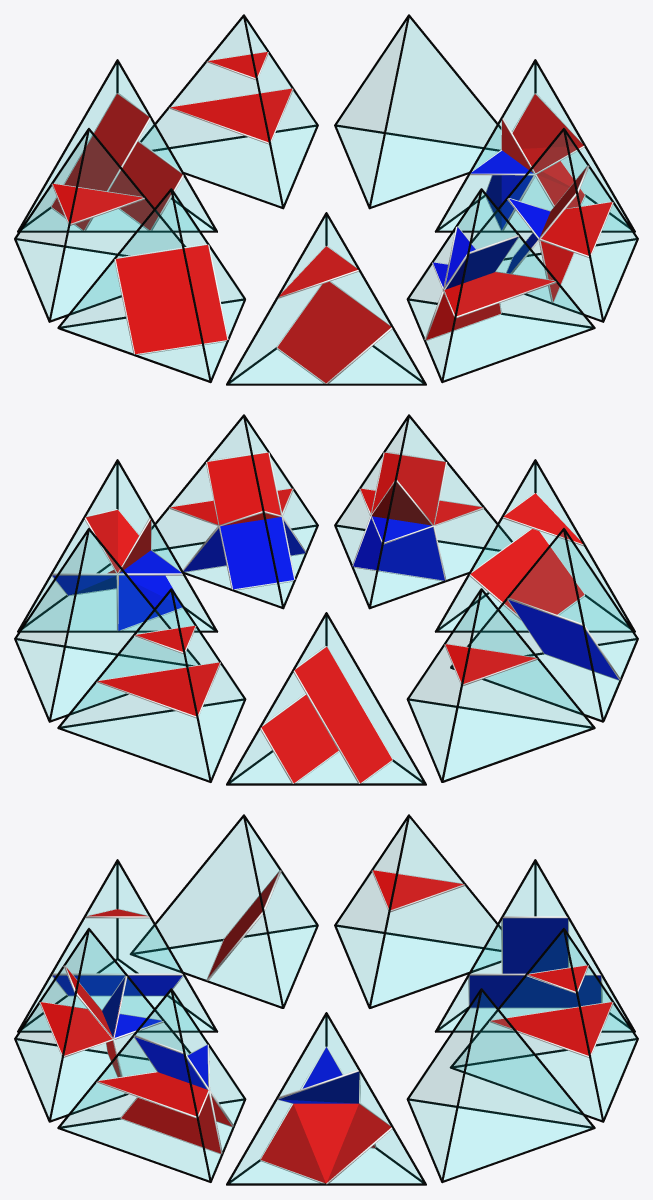
The model's file is canonical5elem.glb.
3 renders of one model, top to bottom at view 1: azimuth 30°, elevation 25°; view 2: azimuth 150°, elevation 25°; view 3: azimuth 270°, elevation 25°, orthographic.
Parts seen in each view (by area): view 1: windows, Circle, windows.005, windows.002, windows.003, quad, windows.001, Circle.001, skeleton.001, skeleton.008, skeleton.004, skeleton.002 (+21 smaller); view 2: Circle, windows, windows.005, Circle.001, skeleton.003, skeleton.008, skeleton.002, windows.002, windows.004, skeleton.001, windows.006, skeleton.004 (+21 smaller); view 3: windows, Circle.001, Circle, windows.005, windows.002, windows.003, windows.001, skeleton.004, skeleton.003, skeleton.008, windows.004, windows.006 (+21 smaller).
Boxes of the visible parts, x1,y1,x2,y2 form: windows: (337, 19, 500, 205); Circle: (17, 133, 181, 318); windows.005: (142, 19, 315, 205); windows.002: (409, 193, 591, 379); windows.003: (473, 133, 635, 318); quad: (116, 245, 227, 353); windows.001: (231, 218, 421, 382); Circle.001: (61, 193, 242, 379); skeleton.001: (277, 246, 391, 383); skeleton.008: (51, 94, 182, 230); skeleton.004: (471, 94, 584, 229); skeleton.002: (426, 227, 554, 339); Circle: (409, 593, 590, 779); windows: (17, 533, 196, 718); windows.005: (61, 593, 242, 779); Circle.001: (471, 533, 635, 718); skeleton.003: (170, 452, 305, 589); skeleton.008: (261, 647, 392, 783); skeleton.002: (353, 452, 482, 580); windows.002: (337, 419, 510, 605); windows.004: (23, 465, 212, 629); skeleton.001: (470, 493, 584, 614); windows.006: (231, 618, 421, 782); skeleton.004: (52, 510, 181, 630); windows: (409, 993, 591, 1179); Circle.001: (135, 819, 315, 1005); Circle: (337, 819, 500, 1005); windows.005: (455, 933, 635, 1118); windows.002: (17, 933, 187, 1118); windows.003: (61, 993, 242, 1179); windows.001: (23, 865, 212, 1029); skeleton.004: (260, 1047, 391, 1183); skeleton.003: (98, 1037, 231, 1153); skeleton.008: (469, 918, 600, 1007); windows.004: (231, 1018, 421, 1182); windows.006: (440, 865, 629, 1029).
Bounding box in the file's own units: 5.36 × 1.43 × 5.44.
